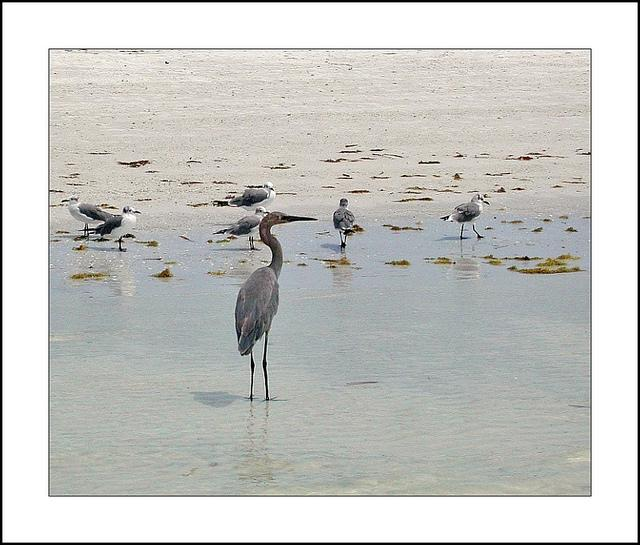bird: (227, 212, 318, 410), (90, 207, 145, 263), (441, 193, 501, 243), (328, 195, 364, 258), (57, 196, 116, 233), (213, 208, 276, 238), (230, 180, 279, 214)
